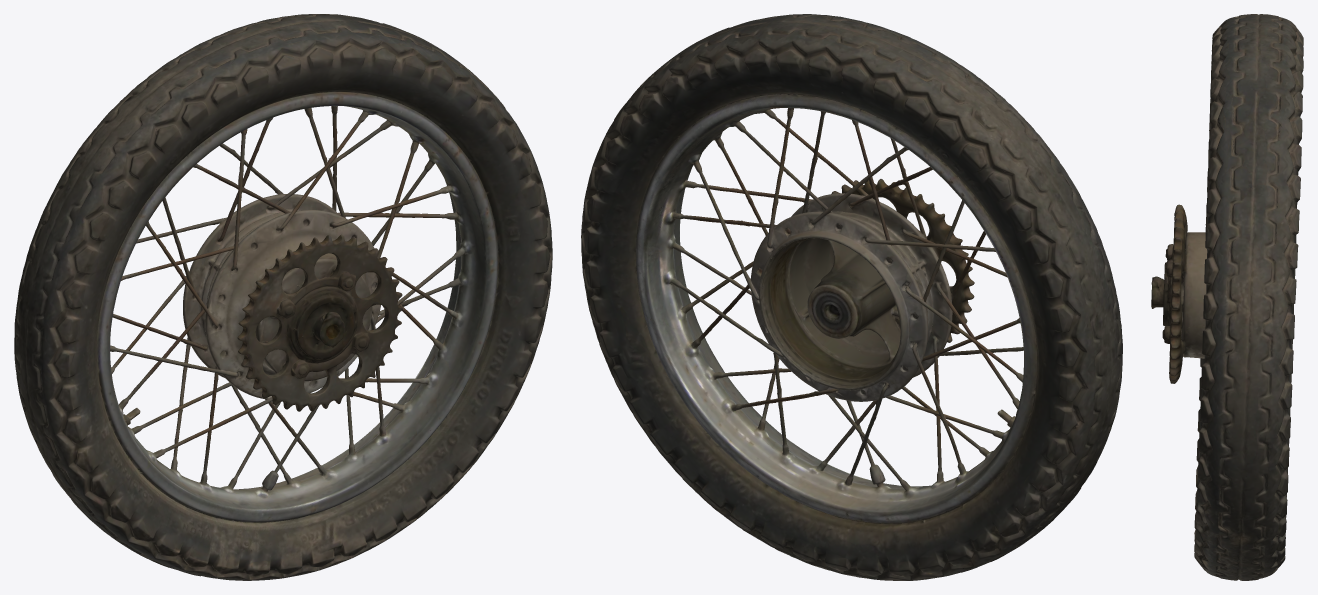
Rendered from sf-motorcycle-wheel-artec-eva-3d-scan-04cea9.glb.
3 views of the same model, side by side, from view 1: azimuth 30°, elevation 25°; view 2: azimuth 150°, elevation 25°; view 3: azimuth 270°, elevation 25° (orthographic). The views are drawn at different scales.
Parts seen in each view (by area): view 1: Object_2; view 2: Object_2; view 3: Object_2.
Part boxes in pixels (x1,y1,x2,y2): Object_2: (14, 14, 552, 580); Object_2: (581, 14, 1122, 580); Object_2: (1151, 14, 1303, 580).
Size of the model in its own units: 630 by 628 by 169.
Materials: 1 (1 with a texture image).
